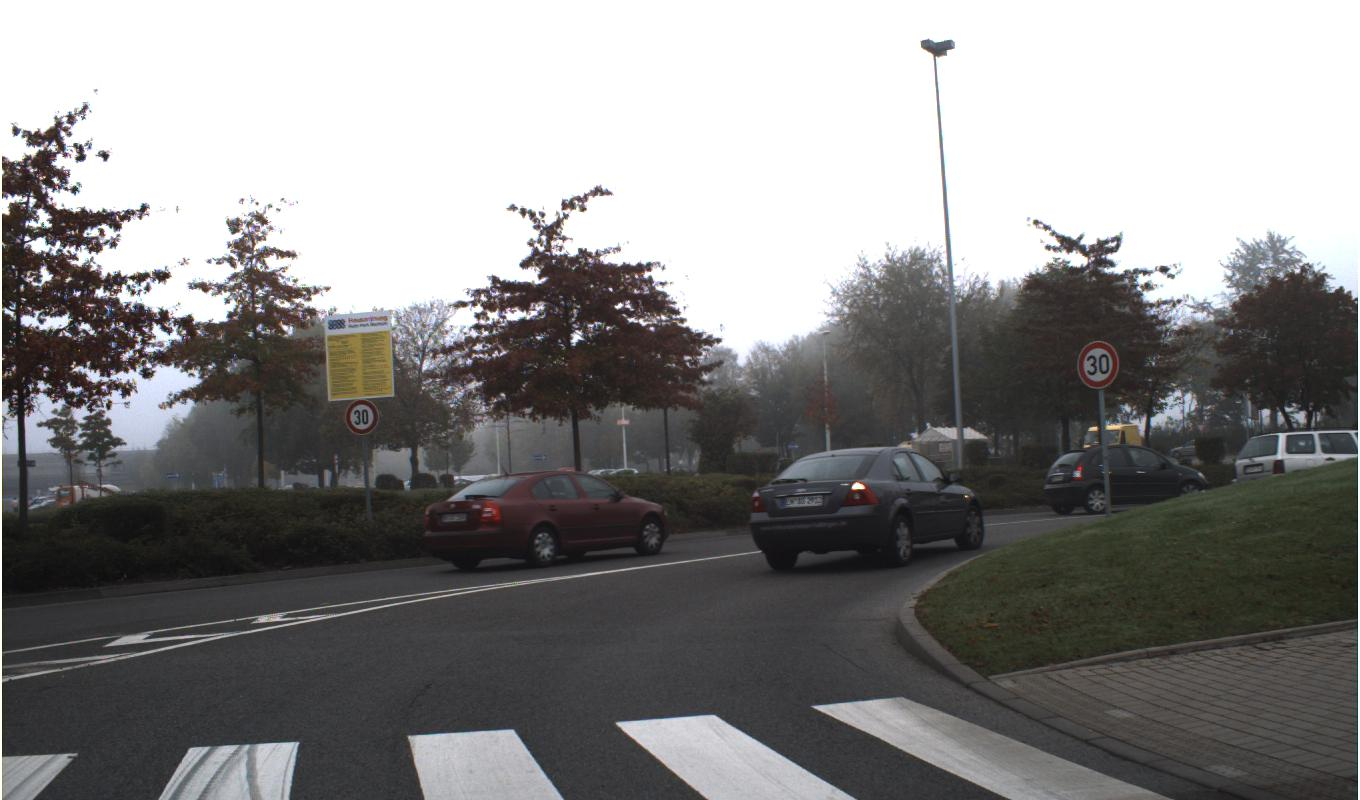prohibitory: (1076, 339, 1119, 389), (344, 397, 379, 436)
